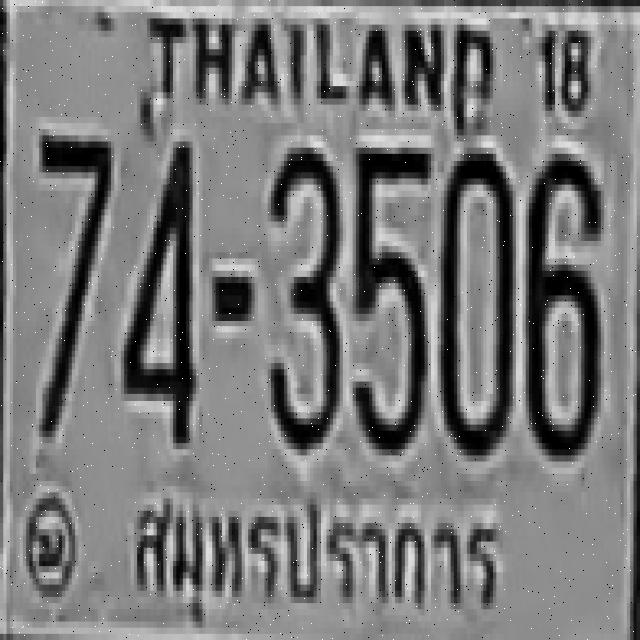0: (438, 144, 512, 452)
3: (268, 142, 336, 450)
4: (120, 132, 192, 440)
5: (350, 142, 428, 450)
6: (522, 147, 598, 456)
7: (36, 129, 111, 437)
SamutPrakan: (124, 486, 508, 640)
